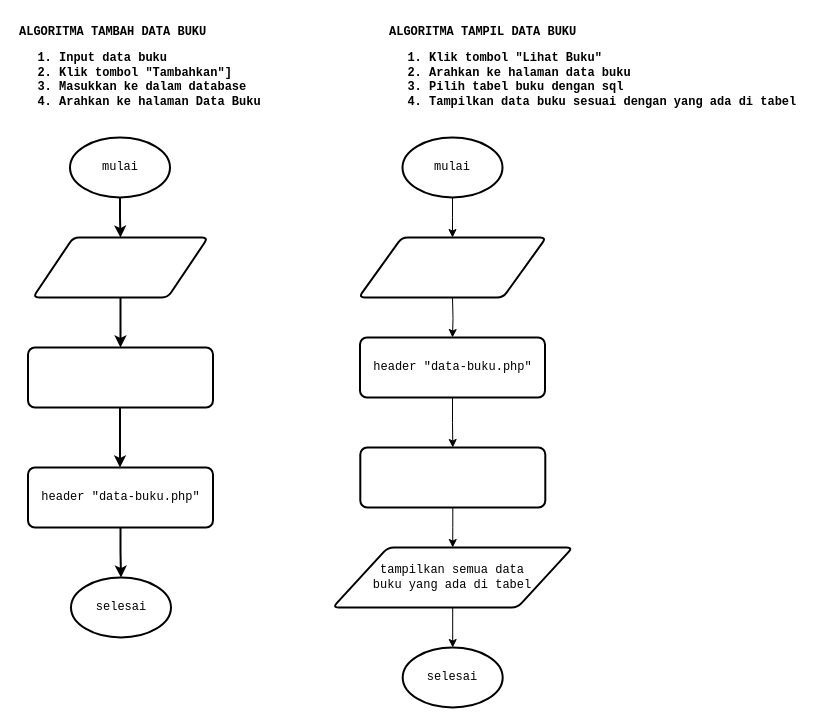
The diagram is 834 pixels wide and 725 high, and some of its shapes have lost their labels. Here are the shapes that lost their labels. From the top down, the centre of each, then its label:
At (x=120, y=267): "input data buku".
At (x=452, y=267): "nav data-buku.php".
At (x=120, y=377): "INSERT INTO tb_buku".
At (x=452, y=477): "SELECT * FROM tb_buku".
